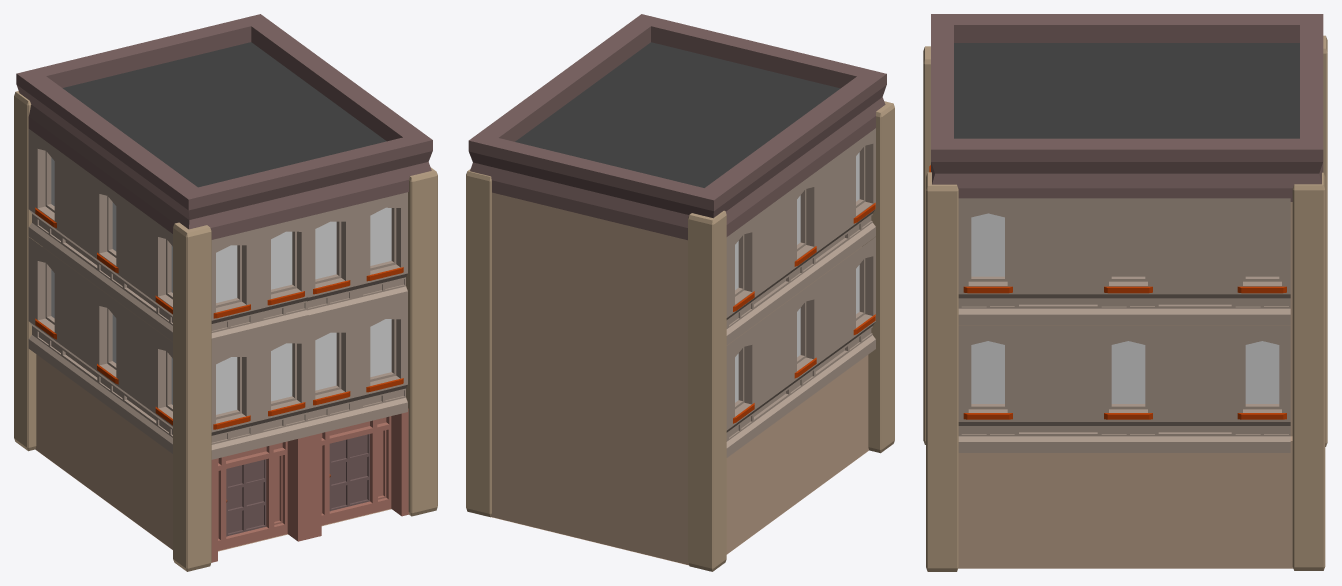
File: Building1.fbx
The picture shows the model from 3 angles, left to right: view 1: azimuth 30°, elevation 25°; view 2: azimuth 150°, elevation 25°; view 3: azimuth 270°, elevation 25°; orthographic projection. The views are drawn at different scales.
Parts seen in each view (by area): view 1: roof, roof.001, Plane.001, cornersupport, window.001, window.016, cornersuport2, window.002, window, door, door.002, window.006 (+10 smaller); view 2: Plane.003, roof, roof.001, Plane.001, cornersup, cornersupport3, cornersupport, window.006, window.009, window.004, window.007, window.005 (+1 smaller); view 3: Plane.002, roof, roof.001, window.015, window.013, window.012, window.010, cornersupport3, cornersuport2, window.014, window.011, window.017 (+5 smaller).
Boxes of the visible parts, x1,y1,x2,y2 form: roof: [16, 14, 432, 239]; roof.001: [62, 42, 386, 187]; Plane.001: [35, 247, 172, 549]; cornersupport: [173, 222, 211, 571]; window.001: [306, 301, 407, 435]; window.016: [306, 192, 407, 324]; cornersuport2: [406, 167, 437, 516]; window.002: [211, 216, 308, 347]; window: [211, 324, 308, 459]; door: [211, 436, 309, 562]; door.002: [310, 408, 409, 538]; window.006: [58, 259, 122, 414]; Plane.003: [491, 192, 688, 564]; roof: [468, 14, 886, 240]; roof.001: [515, 42, 840, 187]; Plane.001: [726, 247, 868, 554]; cornersup: [688, 210, 726, 571]; cornersupport3: [466, 169, 491, 517]; cornersupport: [862, 101, 894, 453]; window.006: [753, 279, 817, 436]; window.009: [753, 171, 817, 323]; window.004: [814, 237, 875, 391]; window.007: [814, 128, 875, 278]; window.005: [726, 324, 756, 457]; Plane.002: [958, 202, 1293, 568]; roof: [931, 14, 1323, 201]; roof.001: [954, 43, 1299, 138]; window.015: [1016, 198, 1156, 325]; window.013: [1156, 198, 1290, 325]; window.012: [1016, 326, 1156, 452]; window.010: [1156, 326, 1290, 452]; cornersupport3: [1292, 172, 1325, 570]; cornersuport2: [926, 172, 958, 571]; window.014: [958, 198, 1016, 325]; window.011: [958, 326, 1016, 452]; window.017: [1245, 341, 1279, 403].
Bounding box in the file's own units: 250 × 349 × 303.
